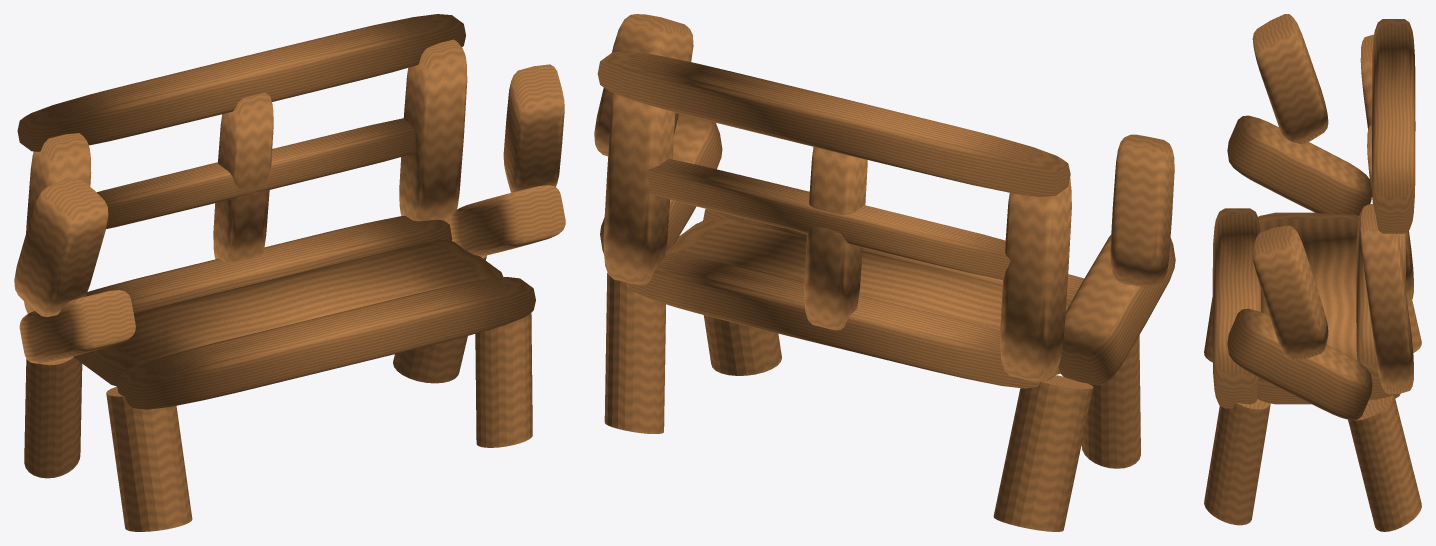
3 views of the same model, side by side, from view 1: azimuth 30°, elevation 25°; view 2: azimuth 150°, elevation 25°; view 3: azimuth 270°, elevation 25° (orthographic). The views are drawn at different scales.
Parts seen in each view (by area): view 1: 5 seat_rail_front, 12 back_top_rail, 7 seat_deck, 13 back_mid_rail, 6 seat_rail_back, 15 back_right_post, 9 left_arm_curl, 1 front_left_leg, 16 back_center_post, 2 front_right_leg, 11 right_arm_curl, 3 back_left_leg (+4 smaller); view 2: 12 back_top_rail, 6 seat_rail_back, 13 back_mid_rail, 7 seat_deck, 14 back_left_post, 3 back_left_leg, 15 back_right_post, 9 left_arm_curl, 4 back_right_leg, 8 left_arm_lower, 16 back_center_post, 1 front_left_leg (+4 smaller); view 3: 12 back_top_rail, 8 left_arm_lower, 10 right_arm_lower, 7 seat_deck, 5 seat_rail_front, 11 right_arm_curl, 15 back_right_post, 4 back_right_leg, 9 left_arm_curl, 2 front_right_leg, 6 seat_rail_back, 14 back_left_post (+3 smaller).
Boxes of the visible parts, x1,y1,x2,y2 form: 5 seat_rail_front: [117, 277, 535, 409]; 12 back_top_rail: [17, 14, 465, 151]; 7 seat_deck: [73, 240, 503, 386]; 13 back_mid_rail: [97, 118, 415, 228]; 6 seat_rail_back: [85, 215, 452, 312]; 15 back_right_post: [399, 39, 467, 224]; 9 left_arm_curl: [14, 178, 108, 317]; 1 front_left_leg: [106, 386, 192, 531]; 16 back_center_post: [213, 93, 273, 262]; 2 front_right_leg: [475, 313, 532, 447]; 11 right_arm_curl: [503, 64, 564, 192]; 3 back_left_leg: [24, 356, 82, 478]; 12 back_top_rail: [597, 51, 1070, 196]; 6 seat_rail_back: [627, 252, 1054, 388]; 13 back_mid_rail: [645, 159, 1010, 279]; 7 seat_deck: [665, 219, 1070, 375]; 14 back_left_post: [1000, 178, 1071, 382]; 3 back_left_leg: [993, 375, 1093, 531]; 15 back_right_post: [603, 93, 675, 285]; 9 left_arm_curl: [1110, 134, 1174, 287]; 4 back_right_leg: [604, 273, 665, 433]; 8 left_arm_lower: [1058, 234, 1175, 385]; 16 back_center_post: [804, 147, 867, 330]; 1 front_left_leg: [1081, 335, 1140, 468]; 12 back_top_rail: [1371, 19, 1415, 233]; 8 left_arm_lower: [1227, 115, 1371, 215]; 10 right_arm_lower: [1227, 308, 1372, 420]; 7 seat_deck: [1257, 212, 1359, 404]; 5 seat_rail_front: [1212, 208, 1260, 408]; 11 right_arm_curl: [1252, 225, 1328, 360]; 15 back_right_post: [1360, 204, 1413, 394]; 4 back_right_leg: [1348, 395, 1421, 531]; 9 left_arm_curl: [1252, 14, 1328, 143]; 2 front_right_leg: [1204, 399, 1270, 525]; 6 seat_rail_back: [1356, 204, 1400, 399]; 14 back_left_post: [1360, 34, 1373, 129].
Bounding box in the file's own units: 1.19 × 0.762 × 0.4572.
1 material, 1 textured.
